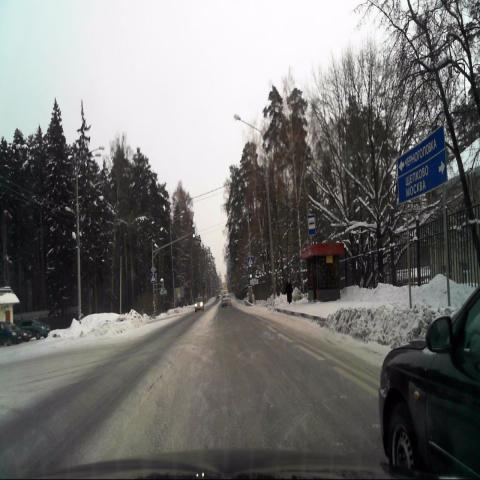5_16: (308, 214, 316, 235)
